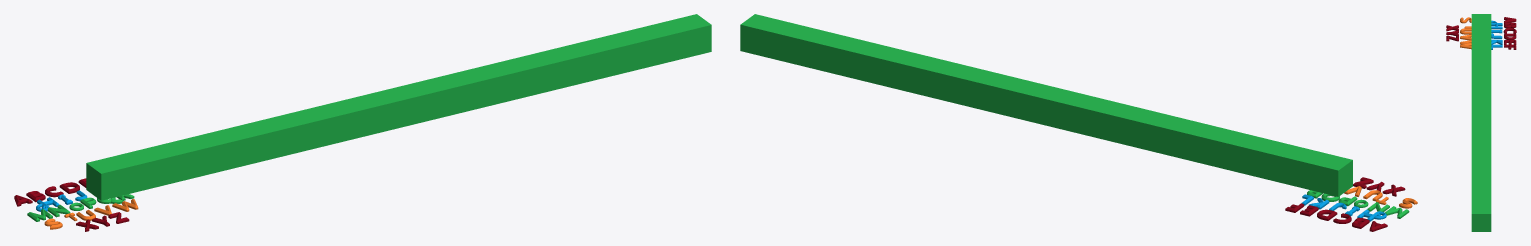
3 views of the same model, side by side, from view 1: azimuth 30°, elevation 25°; view 2: azimuth 150°, elevation 25°; view 3: azimuth 270°, elevation 25° (orthographic). The views are drawn at different scales.
Size of the model in its own units: 1.04 by 0.0536 by 0.1407.
